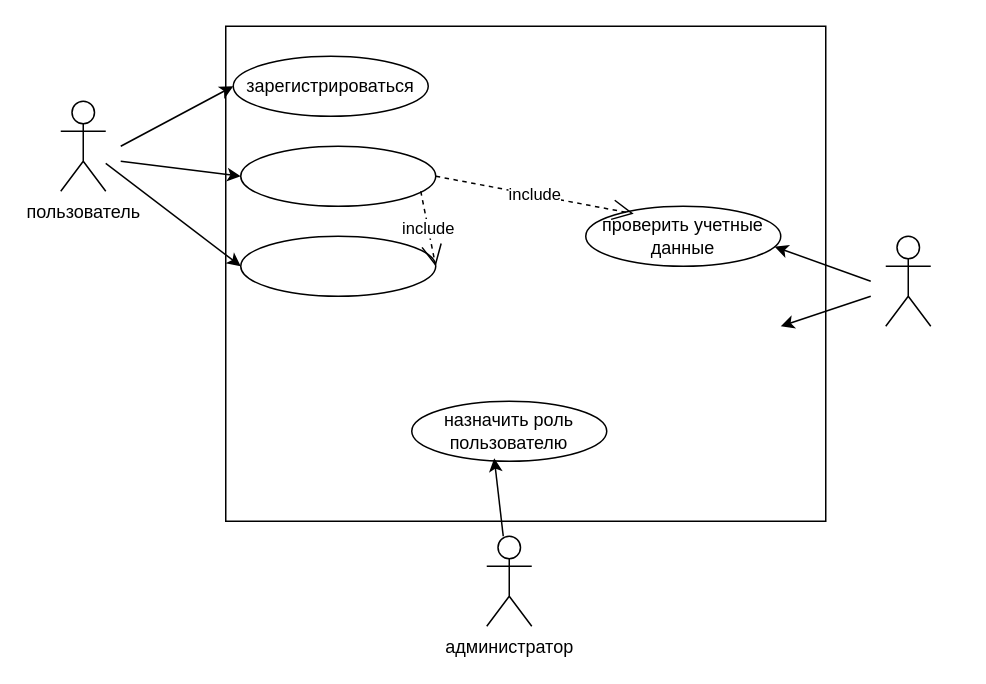
The diagram is 986 pixels wide and 684 high, and some of its shapes have lost their labels. The shapes that lost their labels are listed below. From the top down, each one's centre as x and y in pixels, then its label:
At (x=337, y=175): "войти в систему".
At (x=337, y=265): "получить токен доступа".
At (x=907, y=280): "база данных".
